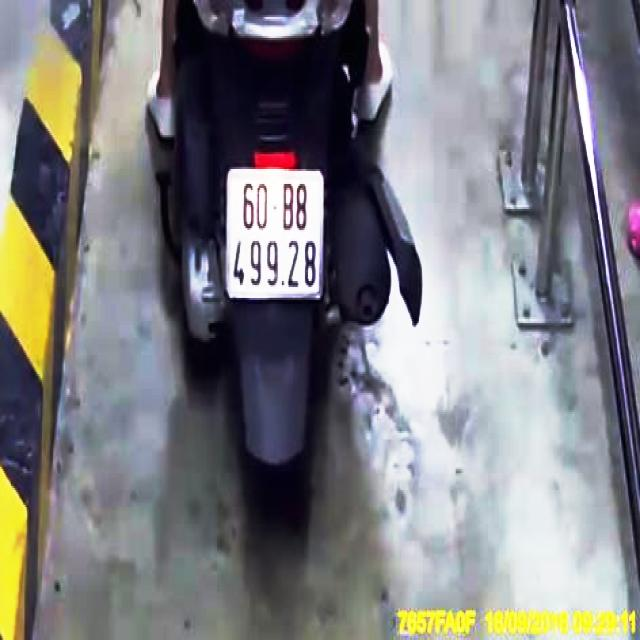license_plate: (229, 170, 324, 299)
